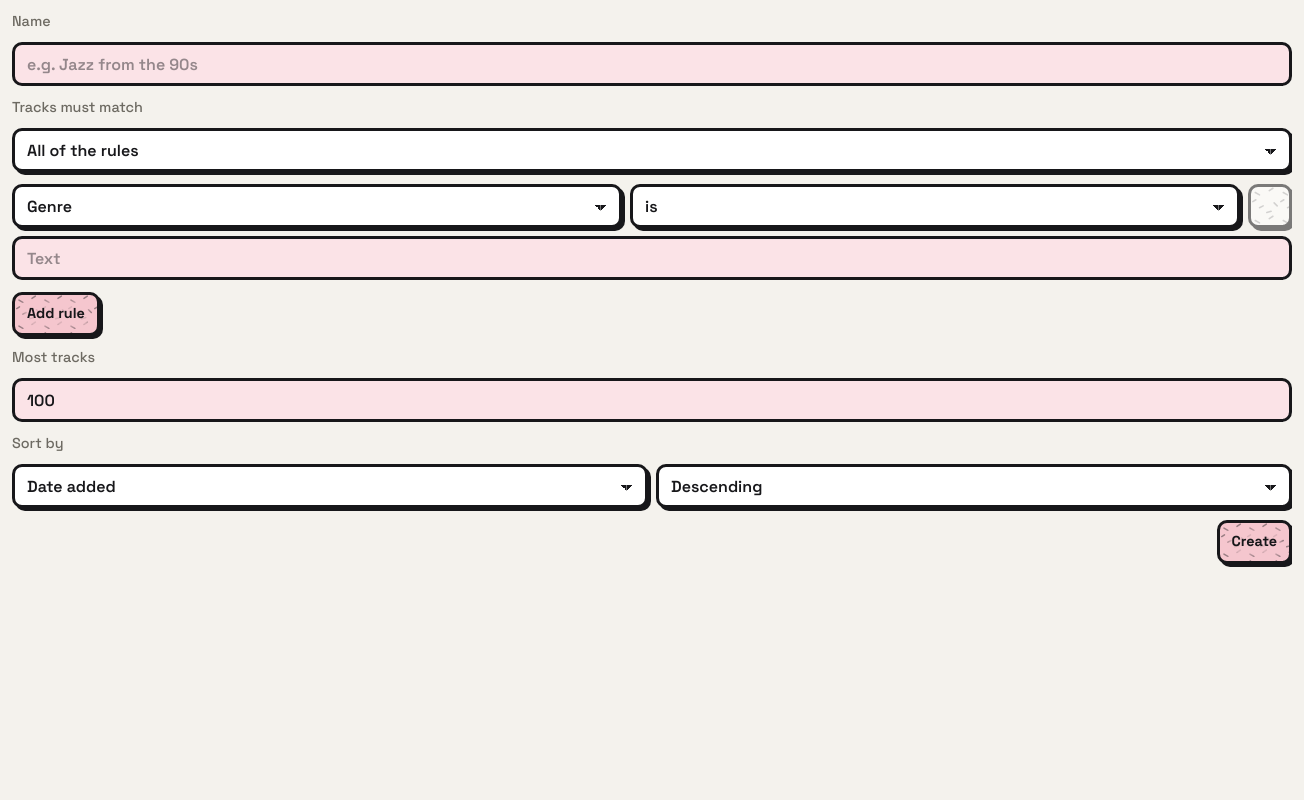
Test: SmartPlaylistEditor › shows the refusal the server answers with, and keeps the form
Type "Broken" into the field with id "smart-name" at point(652, 64), box [12,42,1292,86]
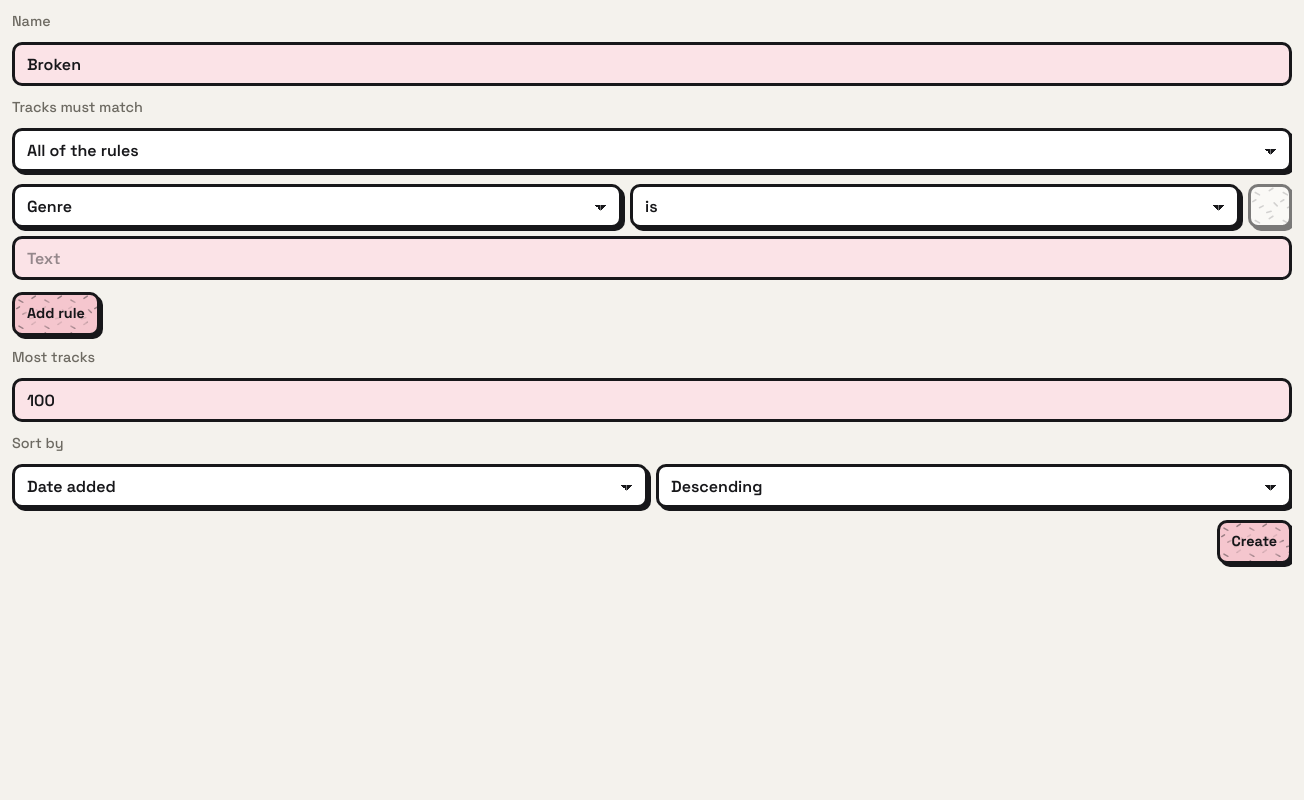
Type "Jazz" into the field named "rule-1-value" at point(652, 258), box [12,236,1292,280]
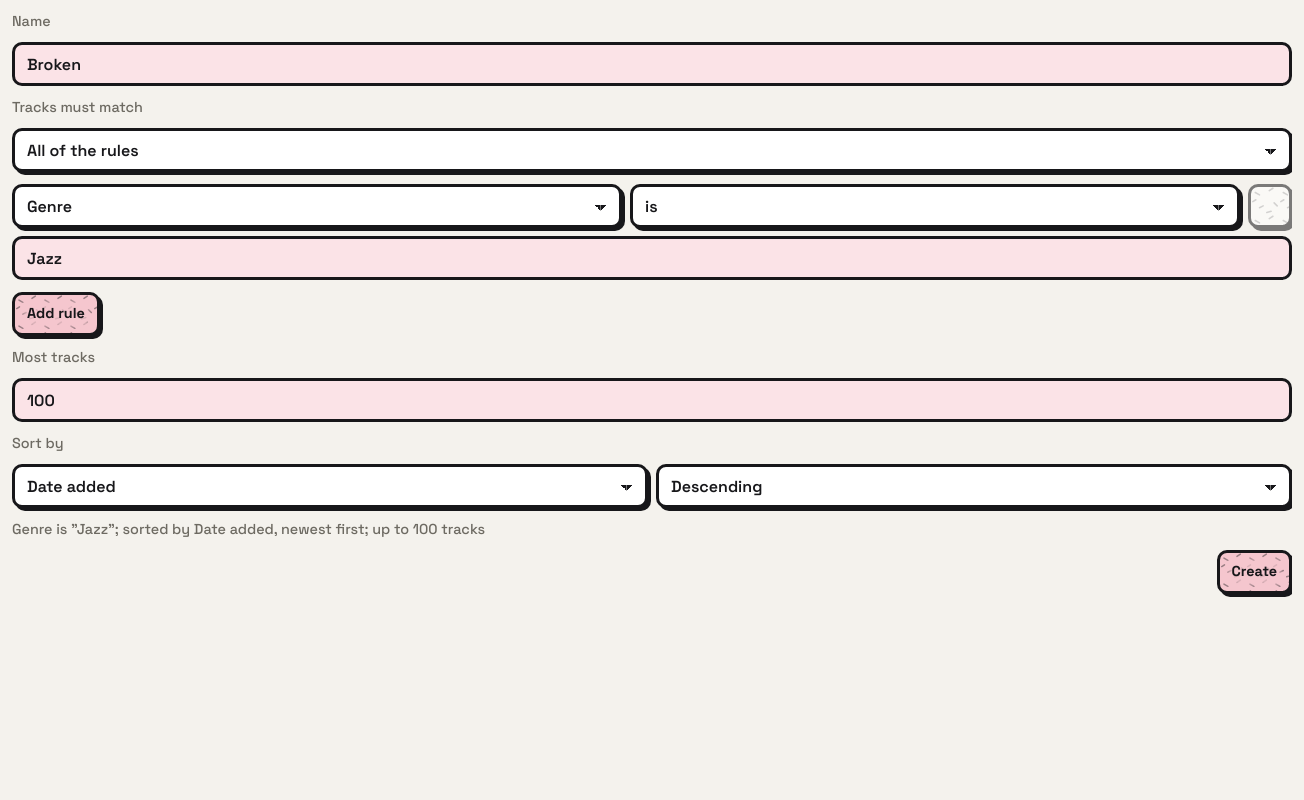
Submit the form
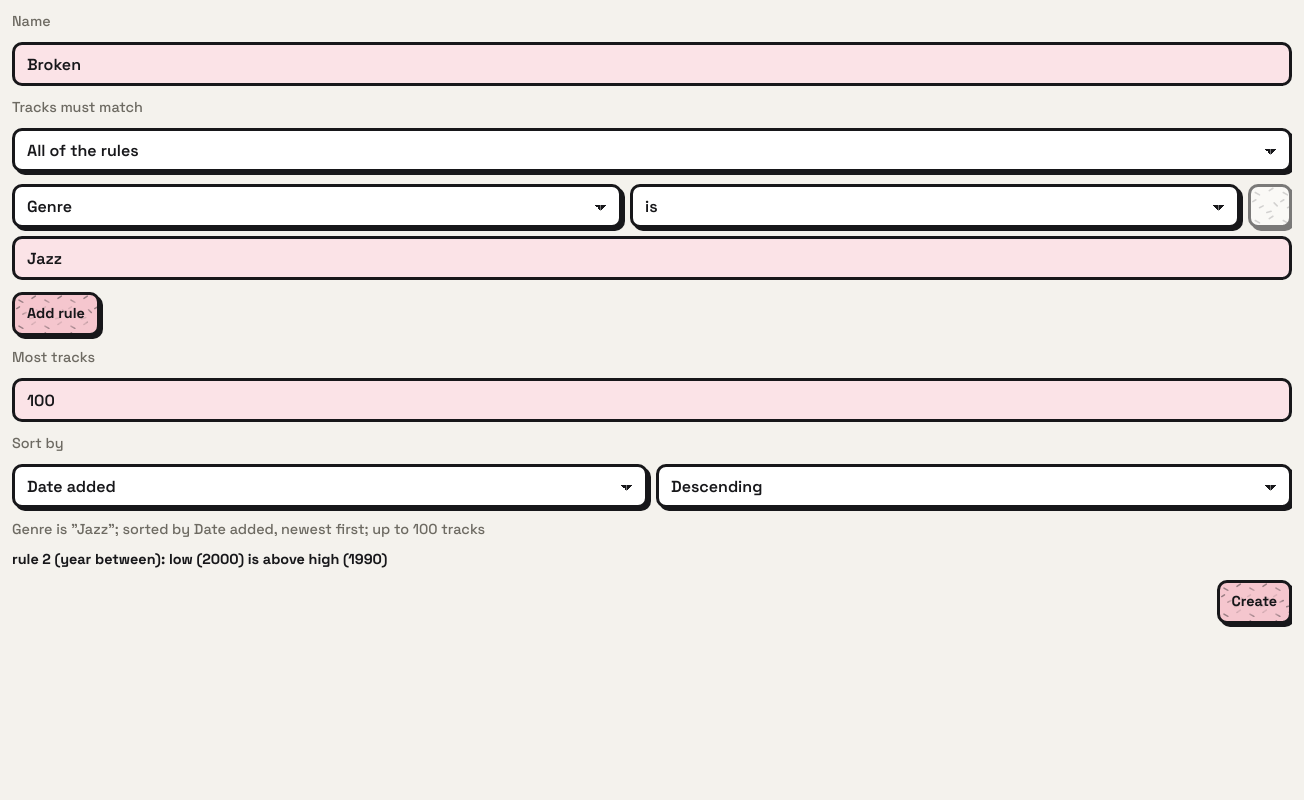
Now the message "rule 2 (year between): low (2000) is above high (1990)" is shown, box [12,550,387,568]
